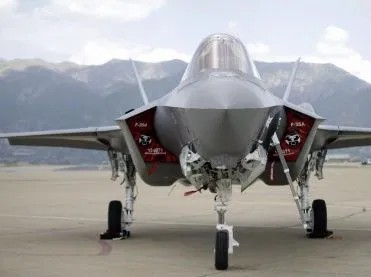F-35 Lightning: (19, 25, 361, 263)
